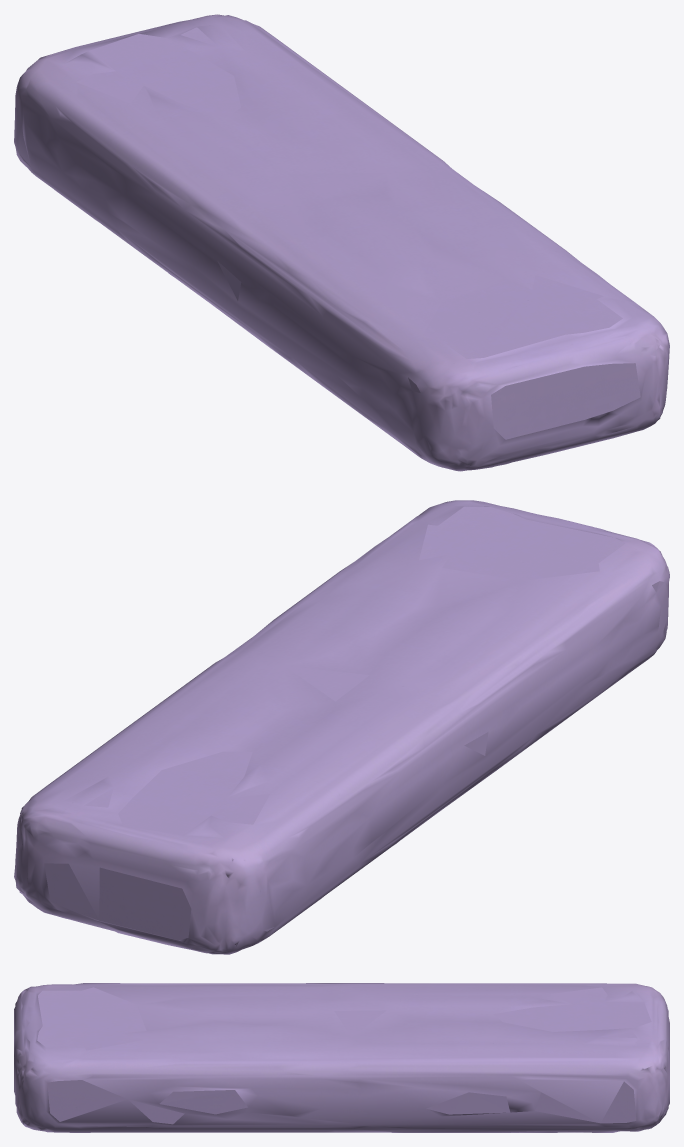
Rendered from PA1Table.fbx.
The picture shows the model from 3 angles, top to bottom: view 1: azimuth 30°, elevation 25°; view 2: azimuth 150°, elevation 25°; view 3: azimuth 270°, elevation 25°; orthographic projection. The views are drawn at different scales.
Parts seen in each view (by area): view 1: PA1Table; view 2: PA1Table; view 3: PA1Table.
Part boxes in pixels (bbox=[...]): PA1Table: bbox=[14, 14, 669, 471]; PA1Table: bbox=[14, 500, 669, 954]; PA1Table: bbox=[14, 983, 669, 1132].
Bounding box in the file's own units: 10.02 × 4.26 × 31.35.
Materials: 1 (1 with a texture image).
